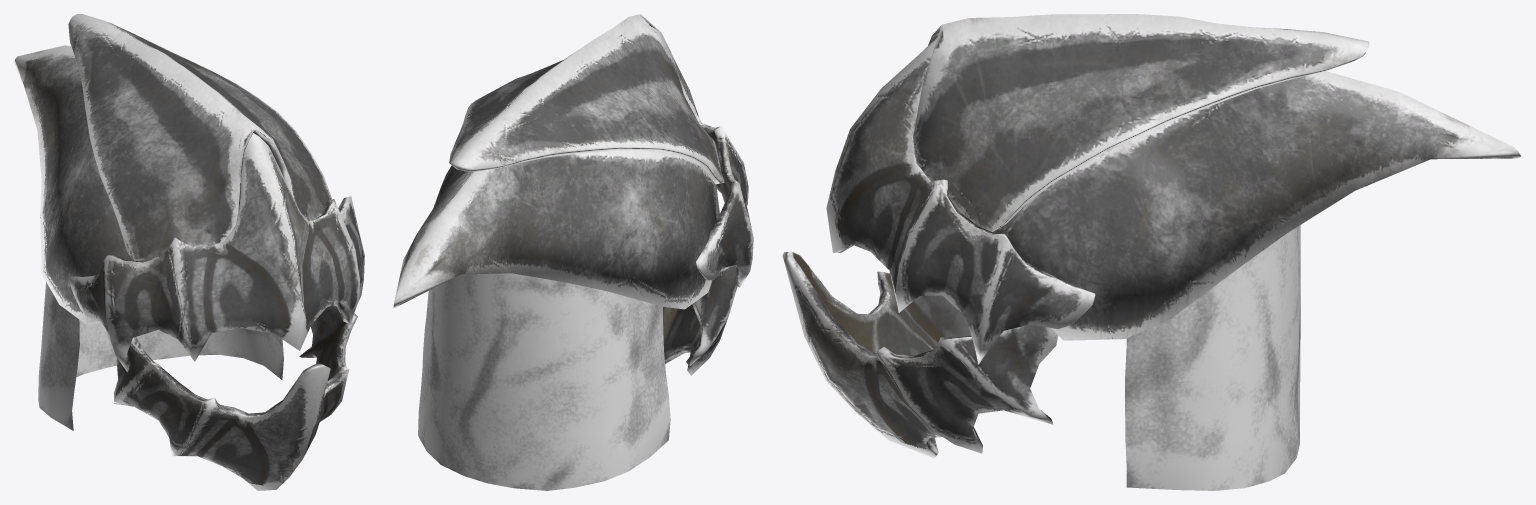
The model's file is moriaorc_v2_helmet.fbx.
The picture shows the model from 3 angles, left to right: view 1: azimuth 30°, elevation 25°; view 2: azimuth 150°, elevation 25°; view 3: azimuth 270°, elevation 25°; orthographic projection. The views are drawn at different scales.
Parts seen in each view (by area): view 1: moriaorc_v2_helmet; view 2: moriaorc_v2_helmet; view 3: moriaorc_v2_helmet.
Boxes of the visible parts, x1=… form: moriaorc_v2_helmet: x1=14, y1=14, x2=364, y2=490; moriaorc_v2_helmet: x1=393, y1=14, x2=753, y2=490; moriaorc_v2_helmet: x1=782, y1=14, x2=1521, y2=490.
Size of the model in its own units: 0.233 by 0.4788 by 0.3178.
Materials: 1 (1 with a texture image).
